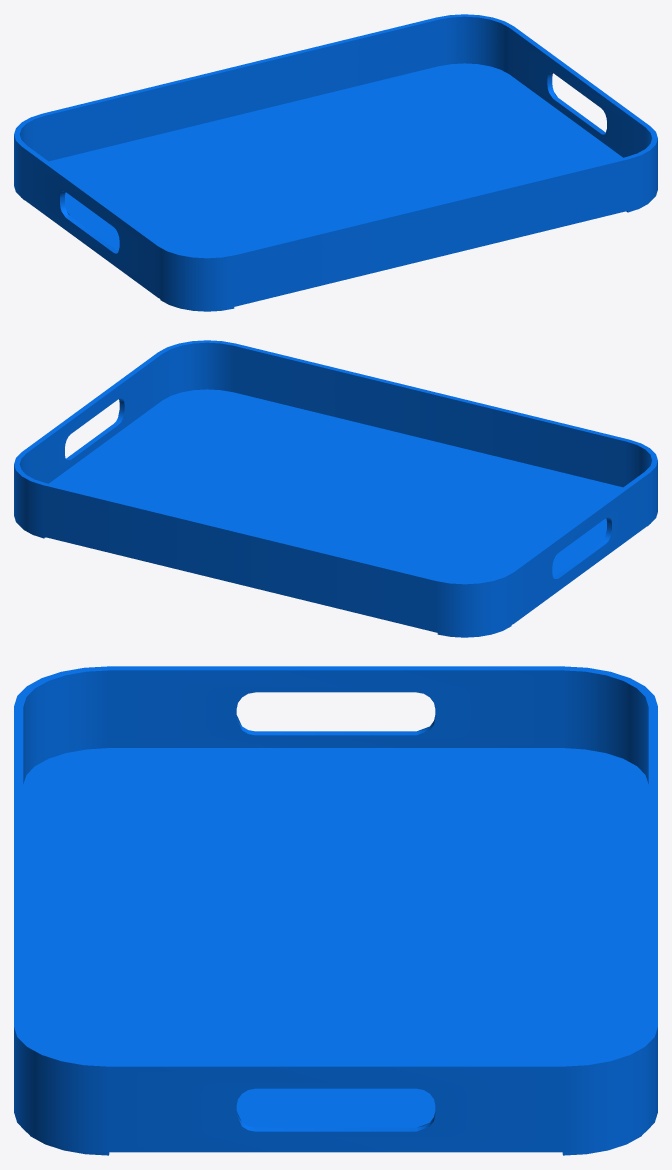
The picture shows the model from 3 angles, top to bottom: view 1: azimuth 30°, elevation 25°; view 2: azimuth 150°, elevation 25°; view 3: azimuth 270°, elevation 25°; orthographic projection. The views are drawn at different scales.
Visible parts, largest first — view 1: Plastic_tray; view 2: Plastic_tray; view 3: Plastic_tray.
Boxes of the visible parts, box(x1,y1,x2,y2) form: Plastic_tray: box(14, 14, 657, 311); Plastic_tray: box(14, 340, 657, 637); Plastic_tray: box(14, 666, 657, 1155).
Size of the model in its own units: 0.9696 by 0.1028 by 0.6593.
